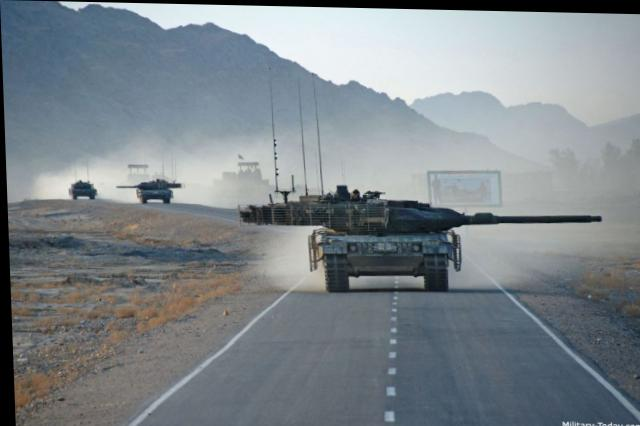tank: (232, 179, 479, 289), (114, 165, 185, 217), (59, 171, 104, 206)
